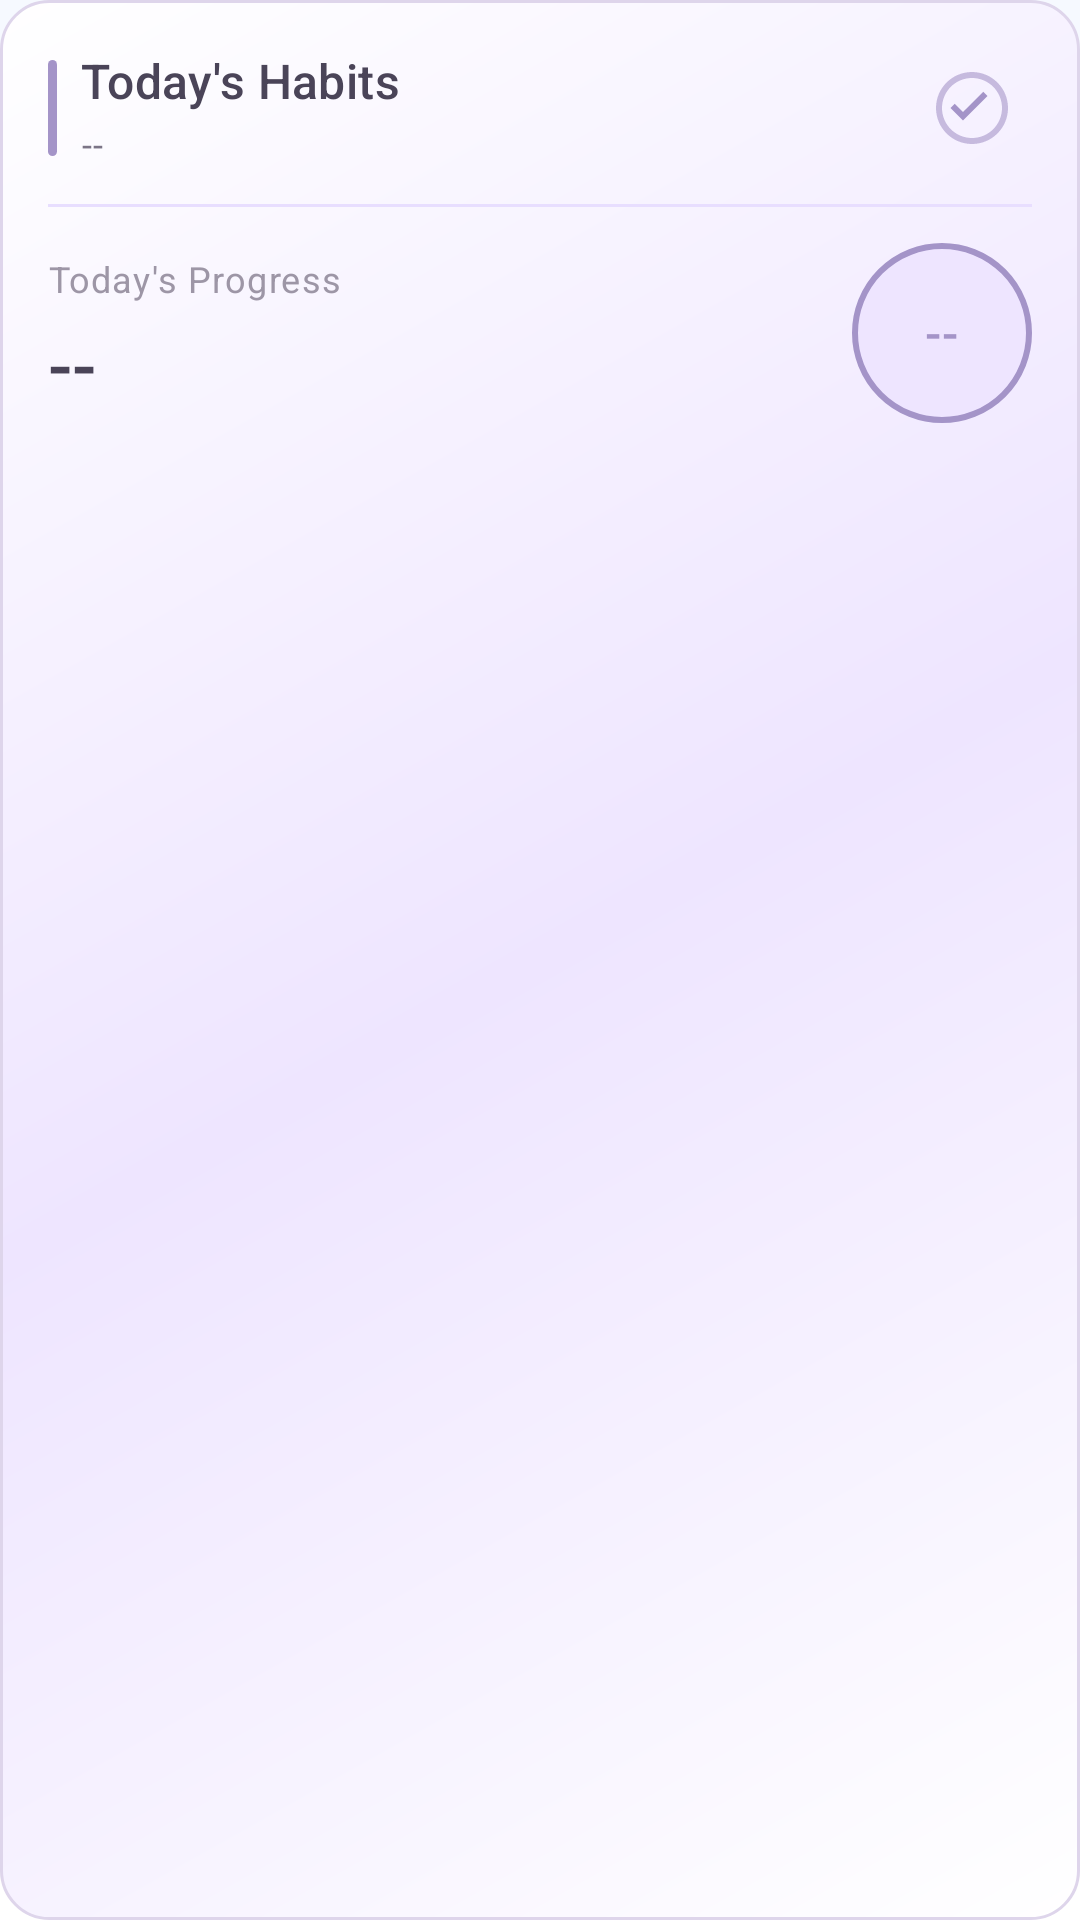

Icons on this 1080px x 1920px Android screen, each with its box as (x1, y1, x2, y2):
Today's Habits: (936, 72, 1008, 144)
